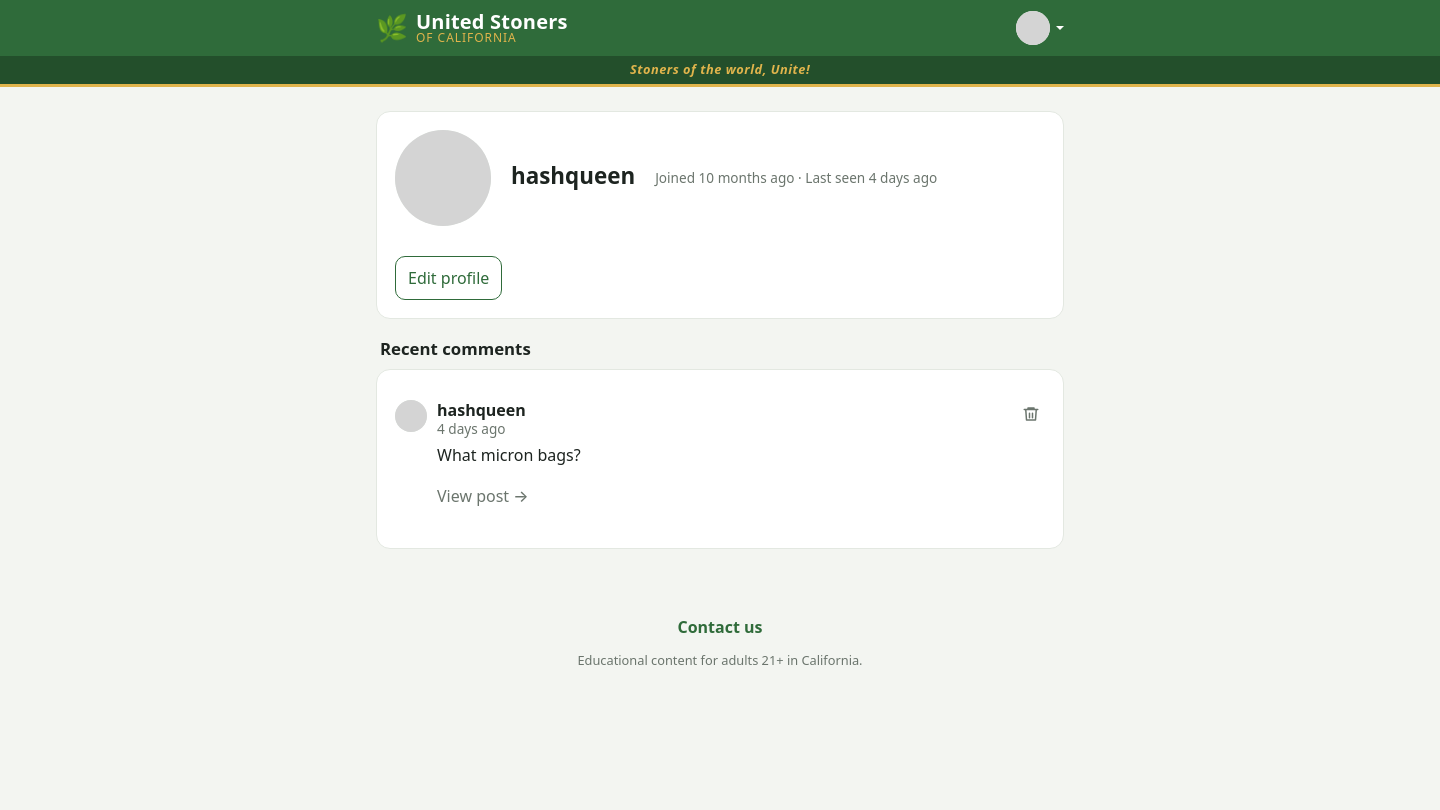
Test: deleting comments › a member can delete their comments from their profile too
Click the button named "Delete" at (1031, 414), box [1009,392,1053,436]
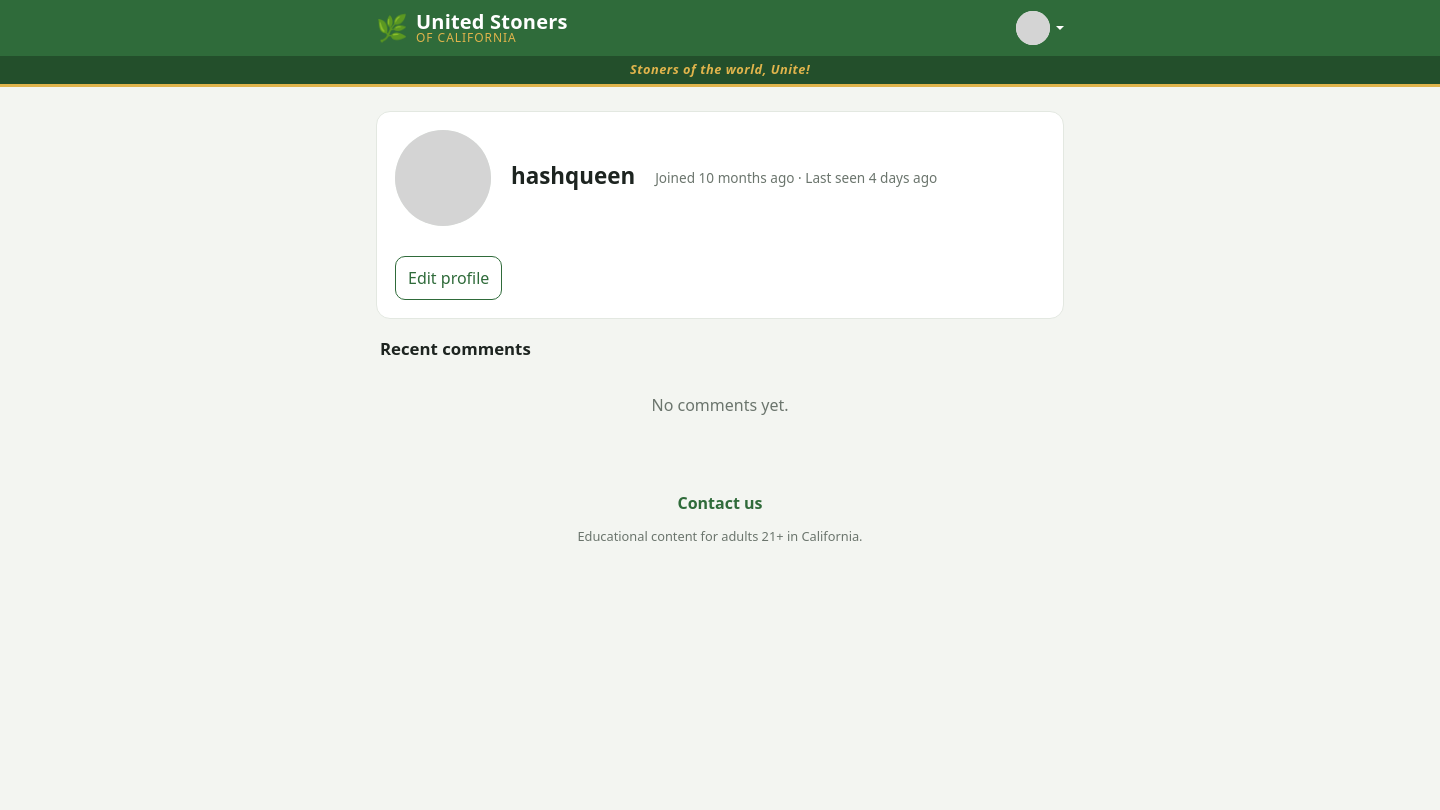
Expected: the text "No comments yet." is shown, [652,394,788,416]
